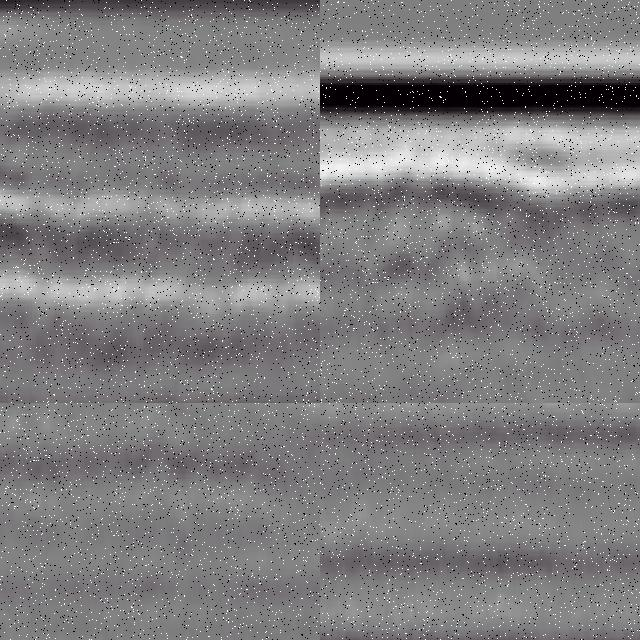crack: (321, 169, 328, 397)
loose: (354, 176, 536, 333)
